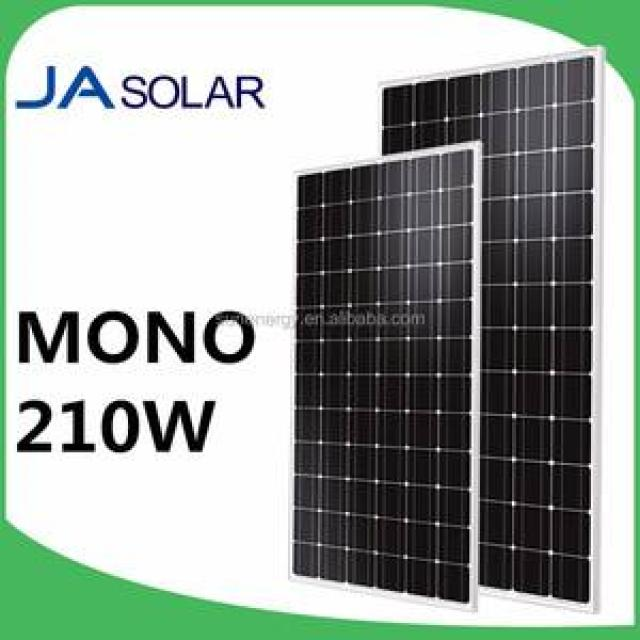clean-solar-panel: (295, 56, 591, 602)
